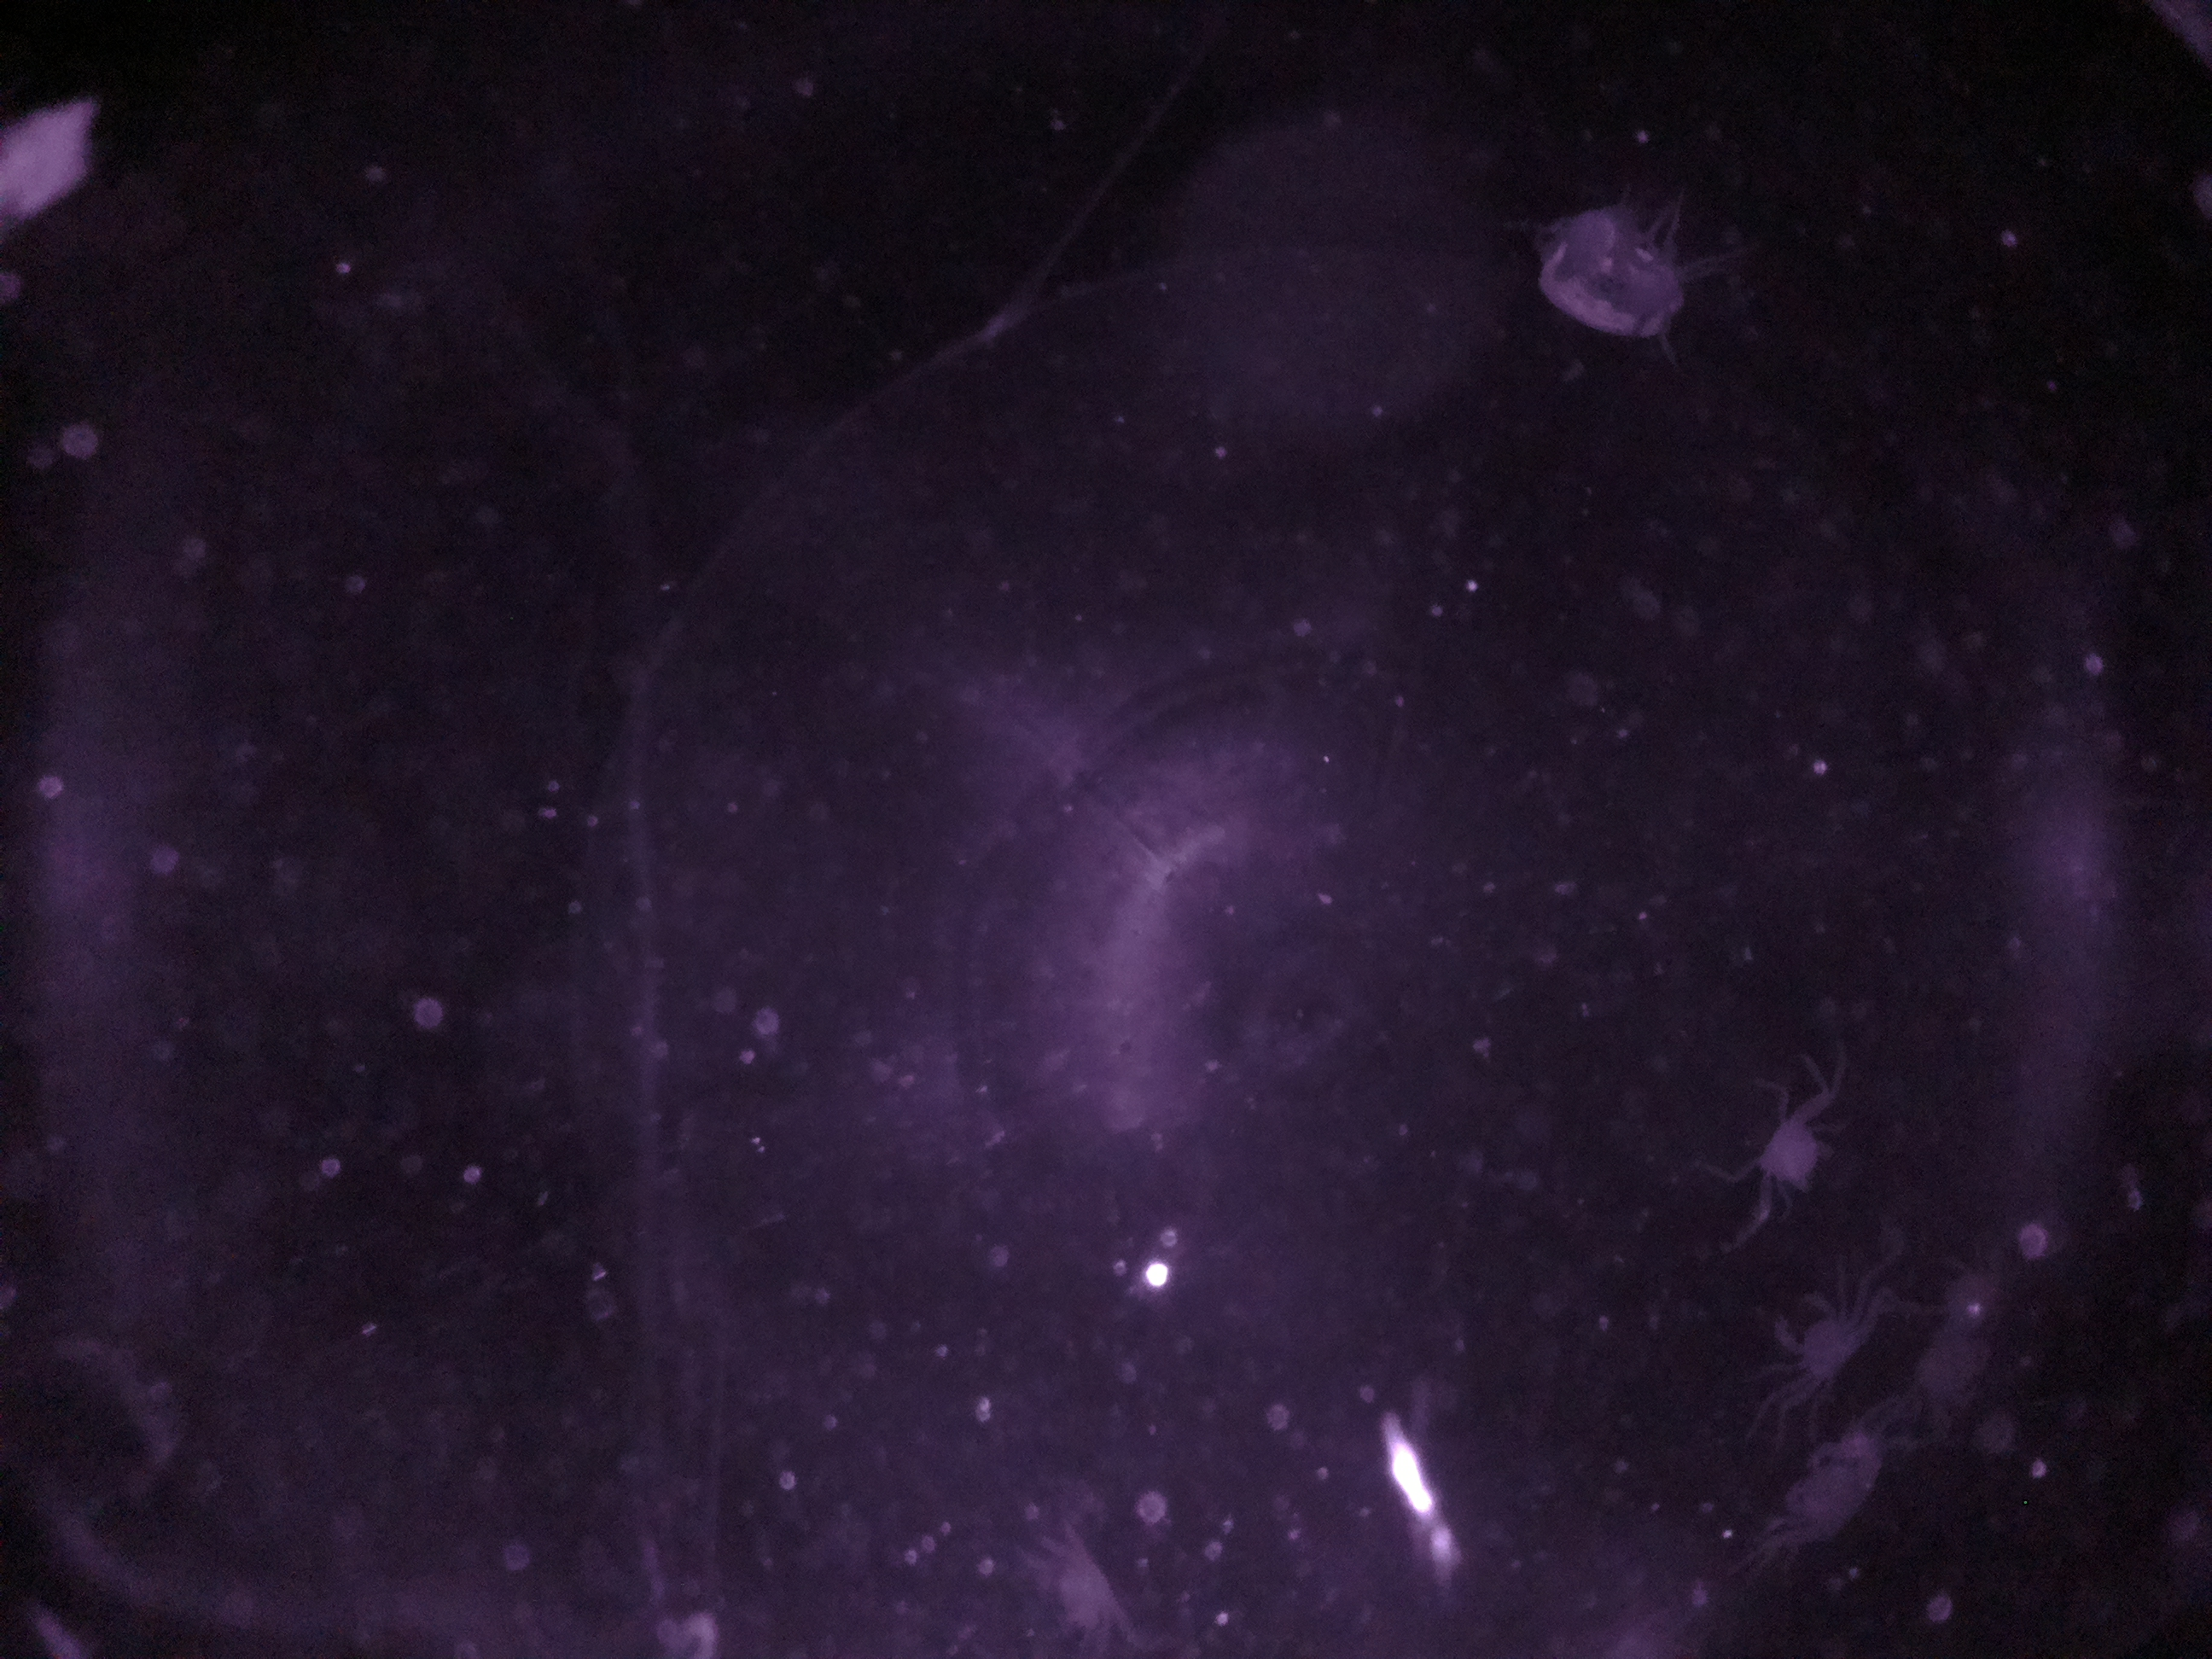Crab: (1764, 1270, 1886, 1405), (1731, 1089, 1853, 1216), (1015, 1540, 1146, 1650)
